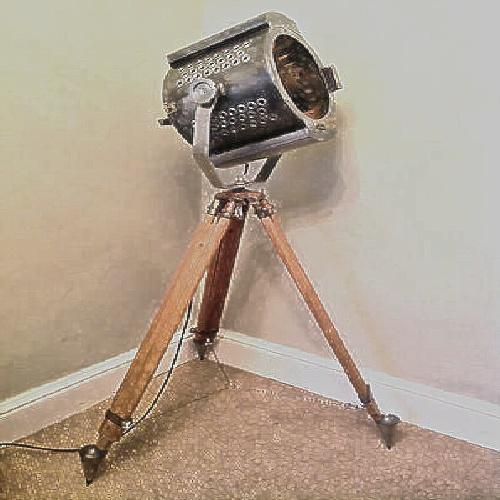lamp: (116, 32, 388, 459)
